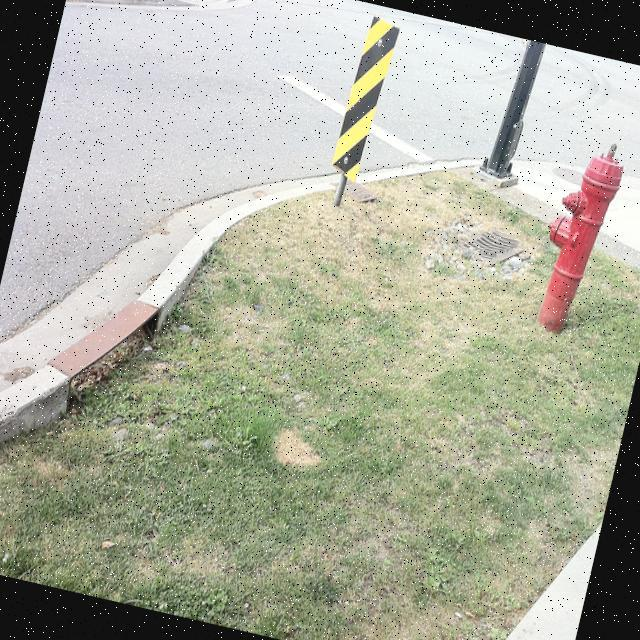fire_hydrant: (524, 134, 628, 341)
